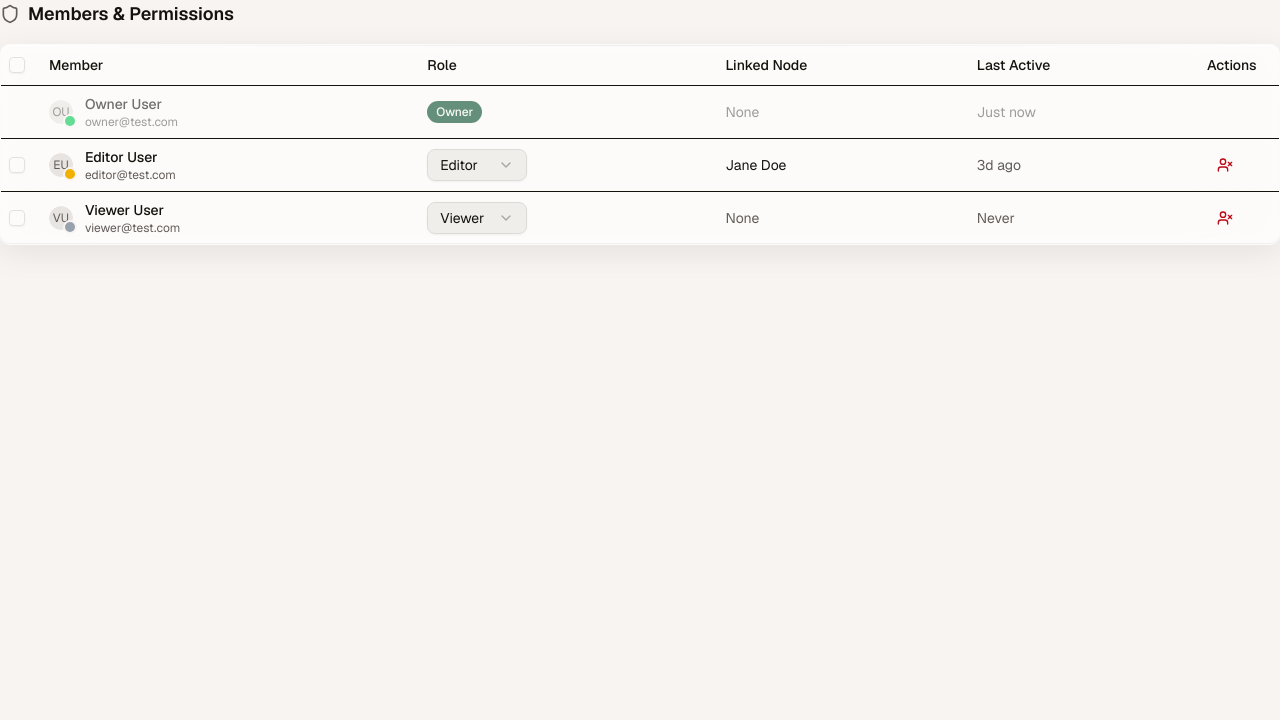
Test: PermissionManager › shows revoke confirmation dialog when revoke button clicked
Click the button with test id "revoke-btn-m-editor" at {"x": 1225, "y": 164}, box [1207,148,1243,180]
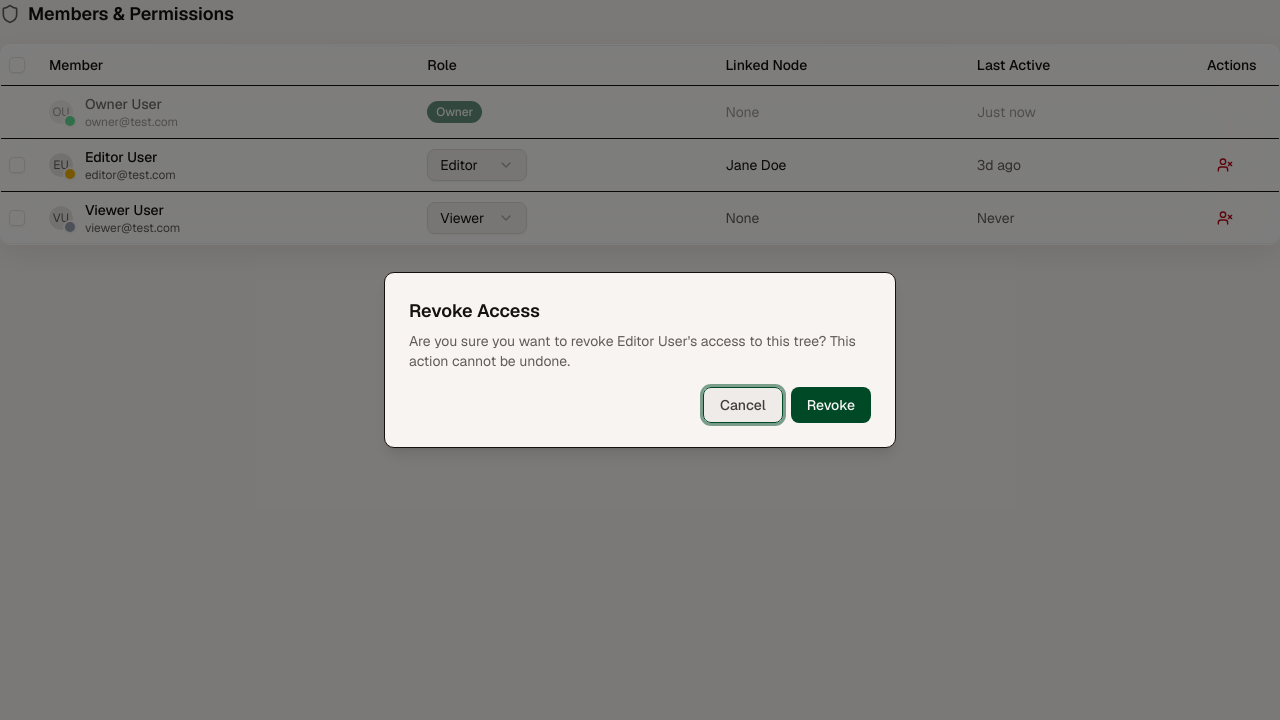
Expected: the heading "Revoke Access" is shown, [409,297,540,325]
